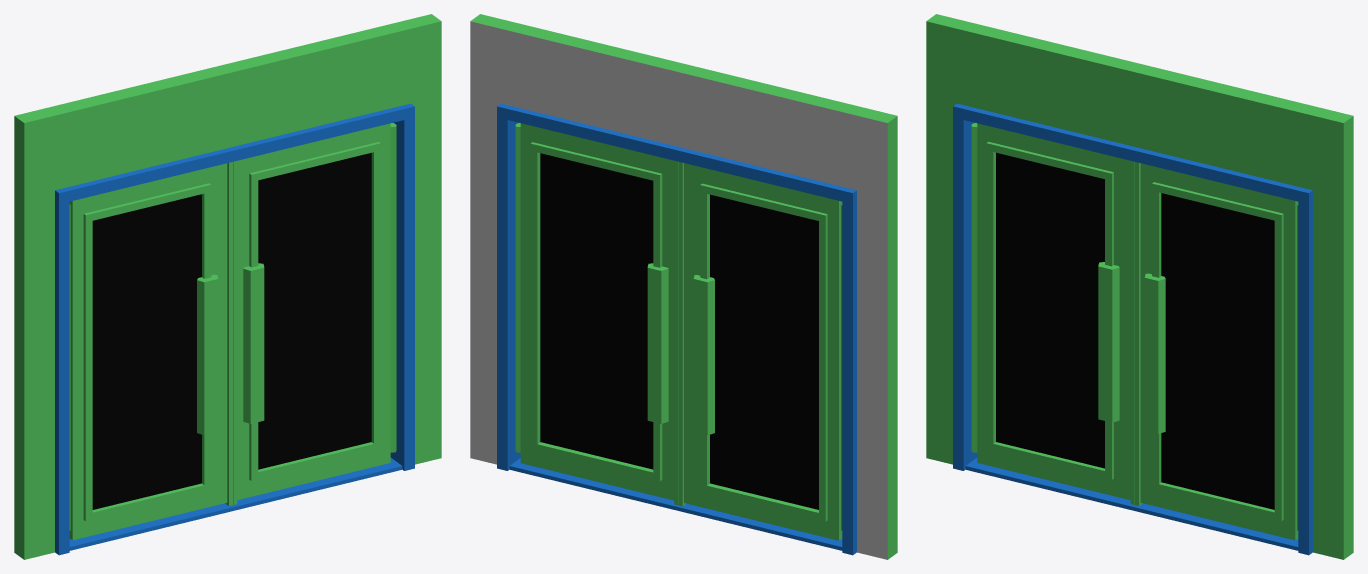
The model's file is Ph_entrance_doors.fbx.
3 renders of one model, left to right at view 1: azimuth 30°, elevation 25°; view 2: azimuth 150°, elevation 25°; view 3: azimuth 330°, elevation 25°, orthographic.
Parts seen in each view (by area): view 1: Boole_2, Symmetry_27, Cylinder_71; view 2: Boole_2, Symmetry_27, Cylinder_71; view 3: Boole_2, Cylinder_71, Symmetry_27.
Part boxes in pixels (x1,y1,x2,y2): Boole_2: [14, 14, 441, 559]; Symmetry_27: [69, 162, 232, 540]; Cylinder_71: [233, 123, 396, 504]; Boole_2: [470, 14, 897, 559]; Symmetry_27: [678, 162, 842, 540]; Cylinder_71: [515, 123, 678, 505]; Boole_2: [926, 14, 1353, 559]; Cylinder_71: [1135, 162, 1298, 540]; Symmetry_27: [971, 123, 1134, 504].
Size of the model in its own units: 250 by 250 by 18.75.
